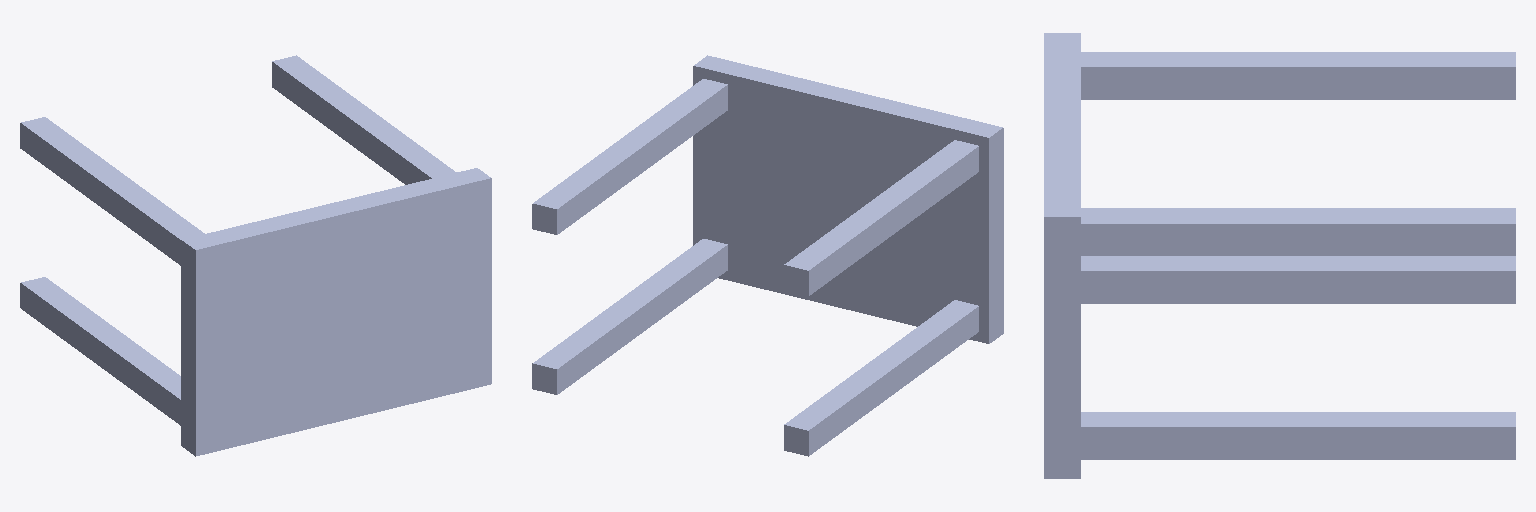
URDF robot description (rbe595_table):
<!--URDF generated by ONSHAPE BY PTC INC, 1.223-->
<robot name="rbe595_table">
    <link name="root">
        <inertial>
            <mass value="0.0368709" />
            <origin xyz="-5.73405e-17 0.169333 -1.36e-17" rpy="0 -0 0" />
            <inertia ixx="0.00300781" ixy="0" ixz="0" iyy="0.00349149" iyz="0" izz="0.00448132" />
        </inertial>
        <visual>
            <origin xyz="0 0 0" rpy="0 -0 0" />
            <geometry>
                <mesh filename="package://rbe595_table/meshes/Part_1.stl" scale="1 1 1" />
            </geometry>
            <material name="0.792157_0.819608_0.933333_0.000000_0.000000">
                <color rgba="0.792157 0.819608 0.933333 1" />
            </material>
        </visual>
    </link>
</robot>

--- What the picture shows (computed from the rendered views, not written in the file) ---
Views: 3 orthographic renders of the robot side by side, from view 1: azimuth 30°, elevation 25°; view 2: azimuth 150°, elevation 25°; view 3: azimuth 270°, elevation 25°.
Model rbe595_table with 1 links and 0 joints (none), rooted at root, posed every joint at zero.
Links seen in each view (by area): view 1: root; view 2: root; view 3: root.
Link boxes in pixels (<box>): root: <box>20,55,491,456</box>; root: <box>532,55,1003,456</box>; root: <box>1044,33,1515,478</box>.
Bounding box of the posed robot: 0.762 × 0.8255 × 0.508 m (x, y, z).
Meshes: 1 distinct files referenced, 1 mesh visuals loaded (1 binary STL).
